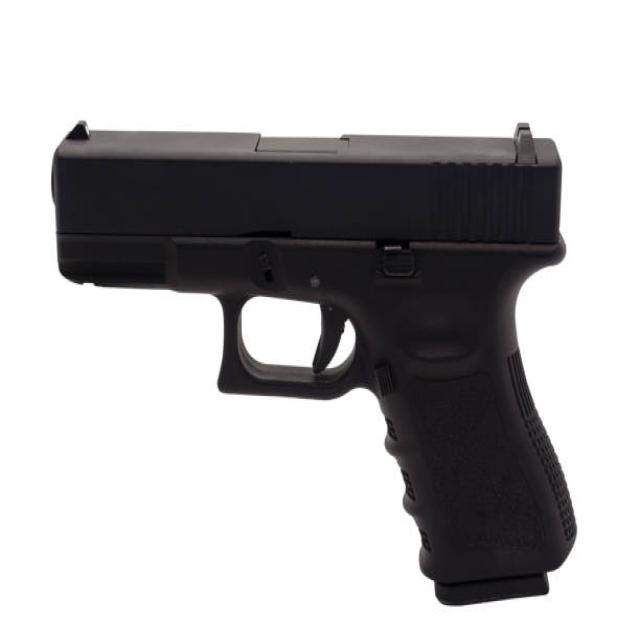pistol: (37, 104, 582, 618)
